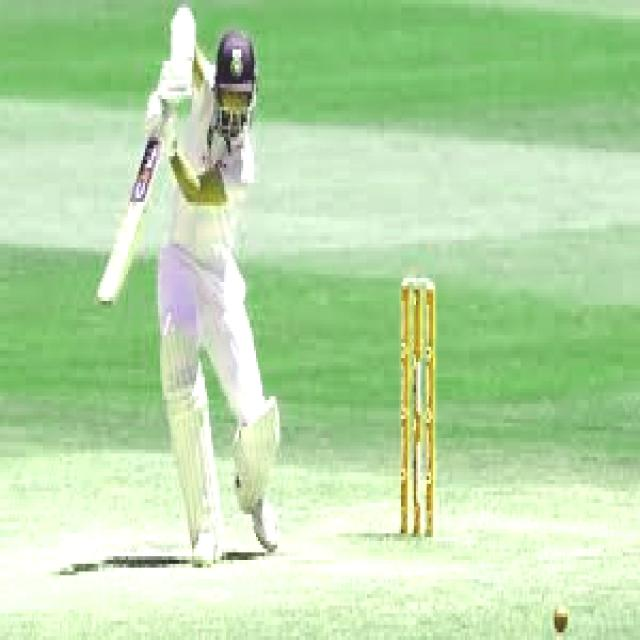toe: (92, 258, 130, 323)
